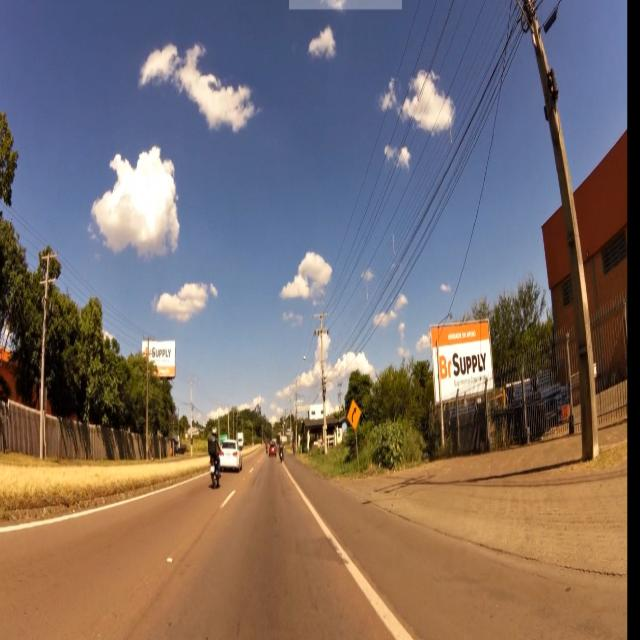A-2b: (346, 400, 364, 433)
